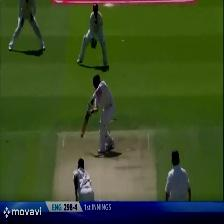batsman: (80, 75, 117, 158)
